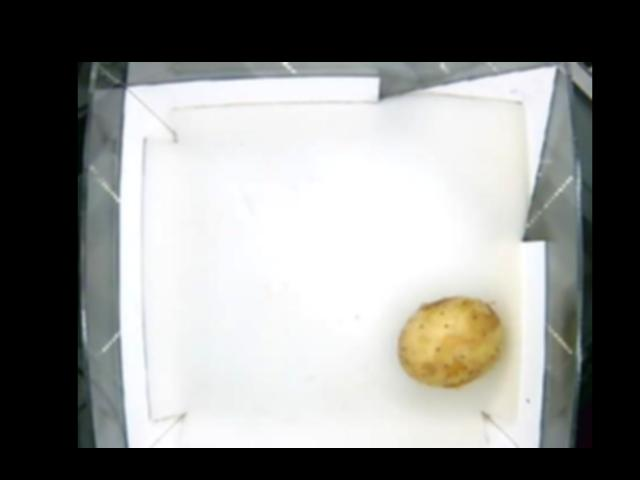Potato: (398, 294, 502, 385)
